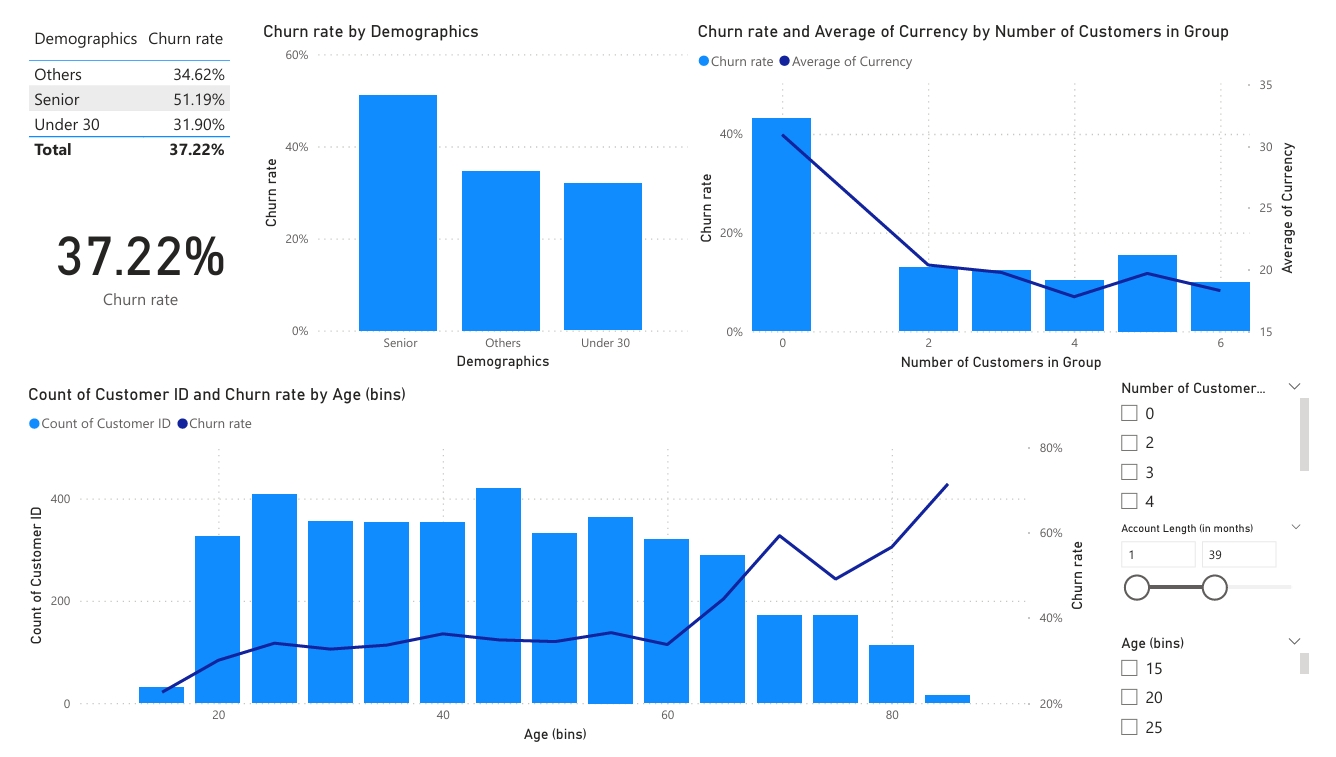

The page's visual inventory and layout, read from the dashboard file:
{"tool":"powerbi","page":{"name":"Ages Grouping","canvas":[1280,720],"ordinal":1},"visuals":[{"type":"tableEx","fields":{"Values":["Databel - Data.Demographics","Databel - Data.Churn rate"]},"box":[0,0,233.5,157.7],"z":0},{"type":"columnChart","fields":{"Y":["Databel - Data.Churn rate"],"Category":["Databel - Data.Demographics"]},"box":[233.5,0,430.3,350.8],"z":1000},{"type":"lineStackedColumnComboChart","fields":{"Category":["Databel - Data.Age (bins)"],"Y2":["Databel - Data.Churn rate"],"Y":["CountNonNull(Databel - Data.Customer ID)"]},"box":[0,360,1057.8,360],"z":2000},{"type":"lineClusteredColumnComboChart","fields":{"Category":["Databel - Data.Number of Customers in Group"],"Y2":["Avg(Databel - Data.Currency)"],"Y":["Databel - Data.Churn rate"]},"box":[663.8,0,602.6,350.8],"z":3000},{"type":"slicer","fields":{"Values":["Databel - Data.Number of Customers in Group"]},"box":[1075.6,351.1,204.4,141.1],"z":4000},{"type":"slicer","fields":{"Values":["Databel - Data.Account Length (in months)"]},"box":[1075.6,492.2,204.4,112.2],"z":5000},{"type":"card","fields":{"Values":["Databel - Data.Churn rate"]},"box":[0,176,233.5,121],"z":6000},{"type":"slicer","fields":{"Values":["Databel - Data.Age (bins)"]},"box":[1075.6,604.4,204.4,115.6],"z":7000}]}

Visuals, with their boxes in screenshot pixels (x1, y1, x2, y2), scaled from the page's 1280x720 canvas onto the 1336x757 screenshot:
tableEx - Databel - Data.Demographics x Databel - Data.Churn rate: <bbox>0, 0, 244, 166</bbox>
columnChart - Databel - Data.Churn rate x Databel - Data.Demographics: <bbox>244, 0, 693, 369</bbox>
lineStackedColumnComboChart - Databel - Data.Age (bins) x Databel - Data.Churn rate: <bbox>0, 378, 1104, 756</bbox>
lineClusteredColumnComboChart - Databel - Data.Number of Customers in Group x Avg(Databel - Data.Currency): <bbox>693, 0, 1322, 369</bbox>
slicer - Databel - Data.Number of Customers in Group: <bbox>1123, 369, 1335, 517</bbox>
slicer - Databel - Data.Account Length (in months): <bbox>1123, 517, 1335, 635</bbox>
card - Databel - Data.Churn rate: <bbox>0, 185, 244, 312</bbox>
slicer - Databel - Data.Age (bins): <bbox>1123, 635, 1335, 756</bbox>
